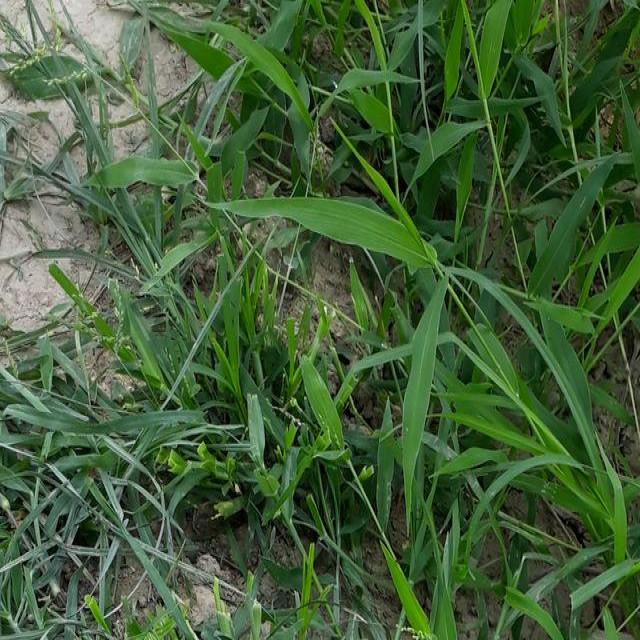weed: (190, 16, 640, 593), (6, 320, 183, 640)
